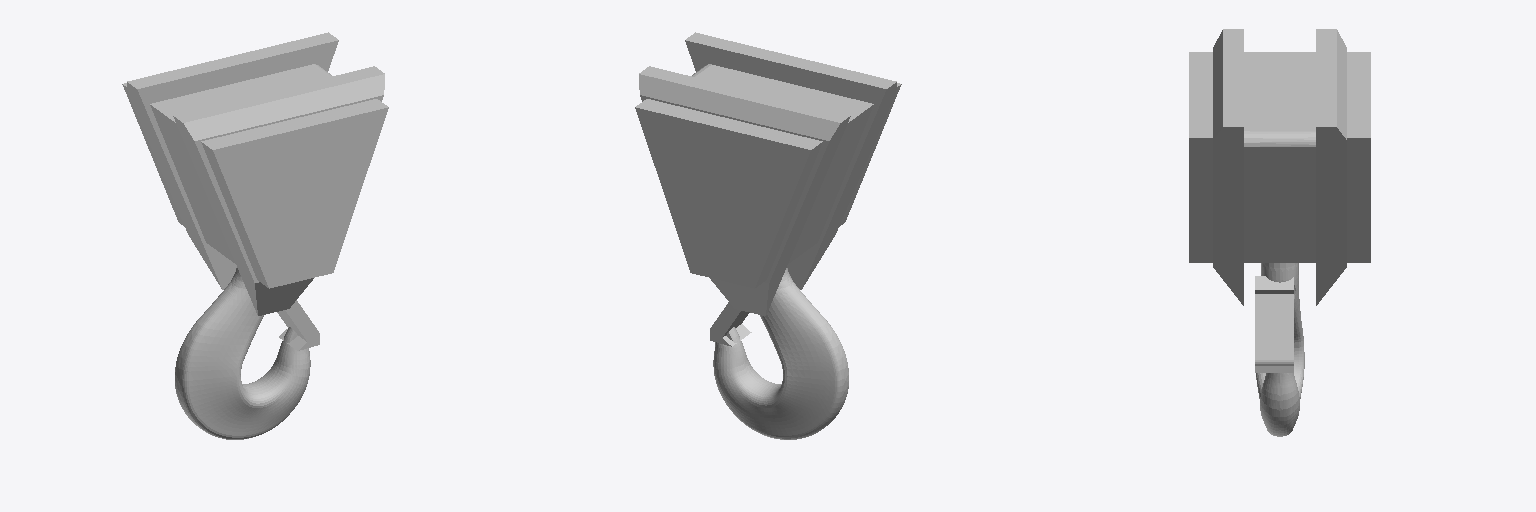
File: Block.obj
3 views of the same model, side by side, from view 1: azimuth 30°, elevation 25°; view 2: azimuth 150°, elevation 25°; view 3: azimuth 270°, elevation 25° (orthographic).
Parts seen in each view (by area): view 1: Solid1; view 2: Solid1; view 3: Solid1.
Boxes of the visible parts, box(x1,y1,x2,y2) form: Solid1: box(122, 32, 388, 439); Solid1: box(635, 32, 901, 439); Solid1: box(1189, 29, 1370, 436).
Size of the model in its own units: 597 by 1007 by 464.